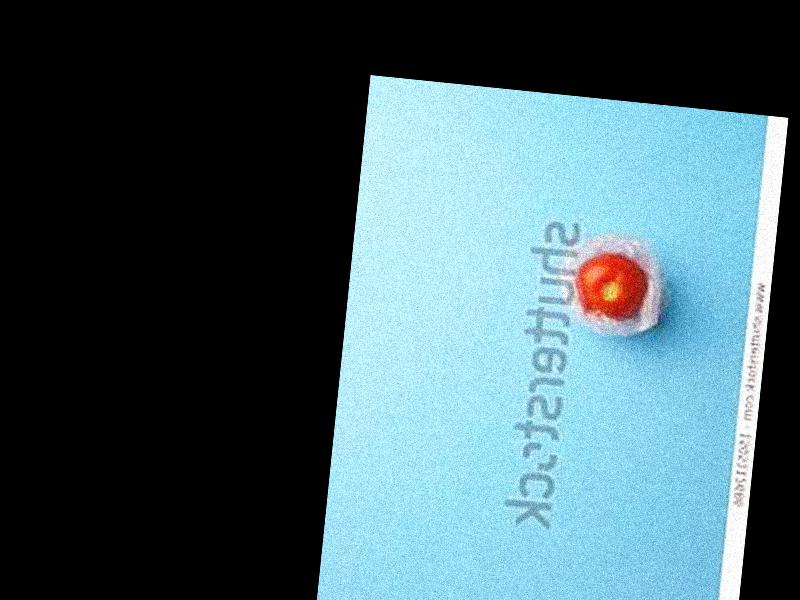Tomato: (573, 252, 648, 323)
